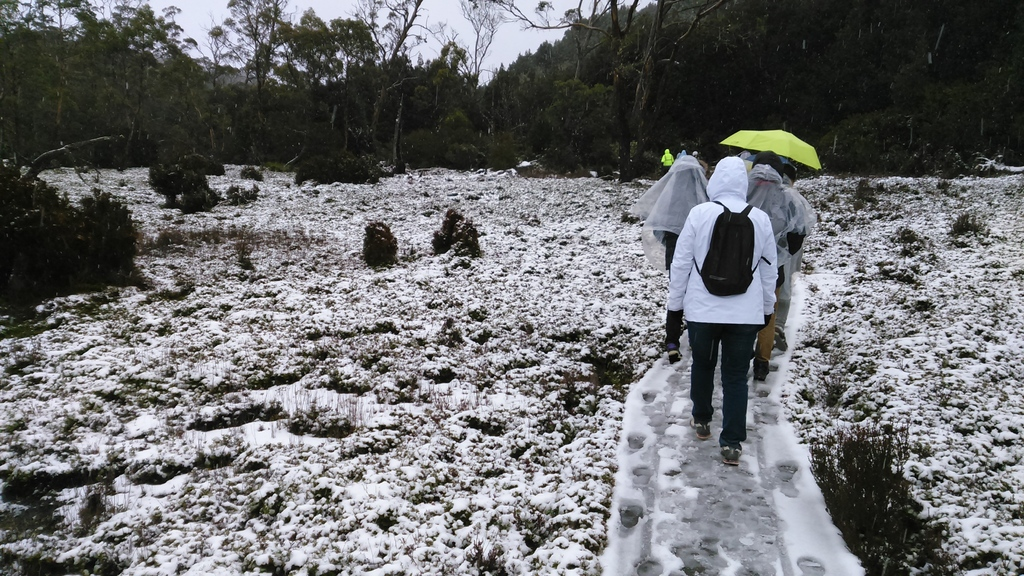Footwear: (689, 415, 712, 436), (723, 443, 742, 465), (771, 325, 788, 348), (755, 352, 767, 383), (668, 347, 683, 365)
